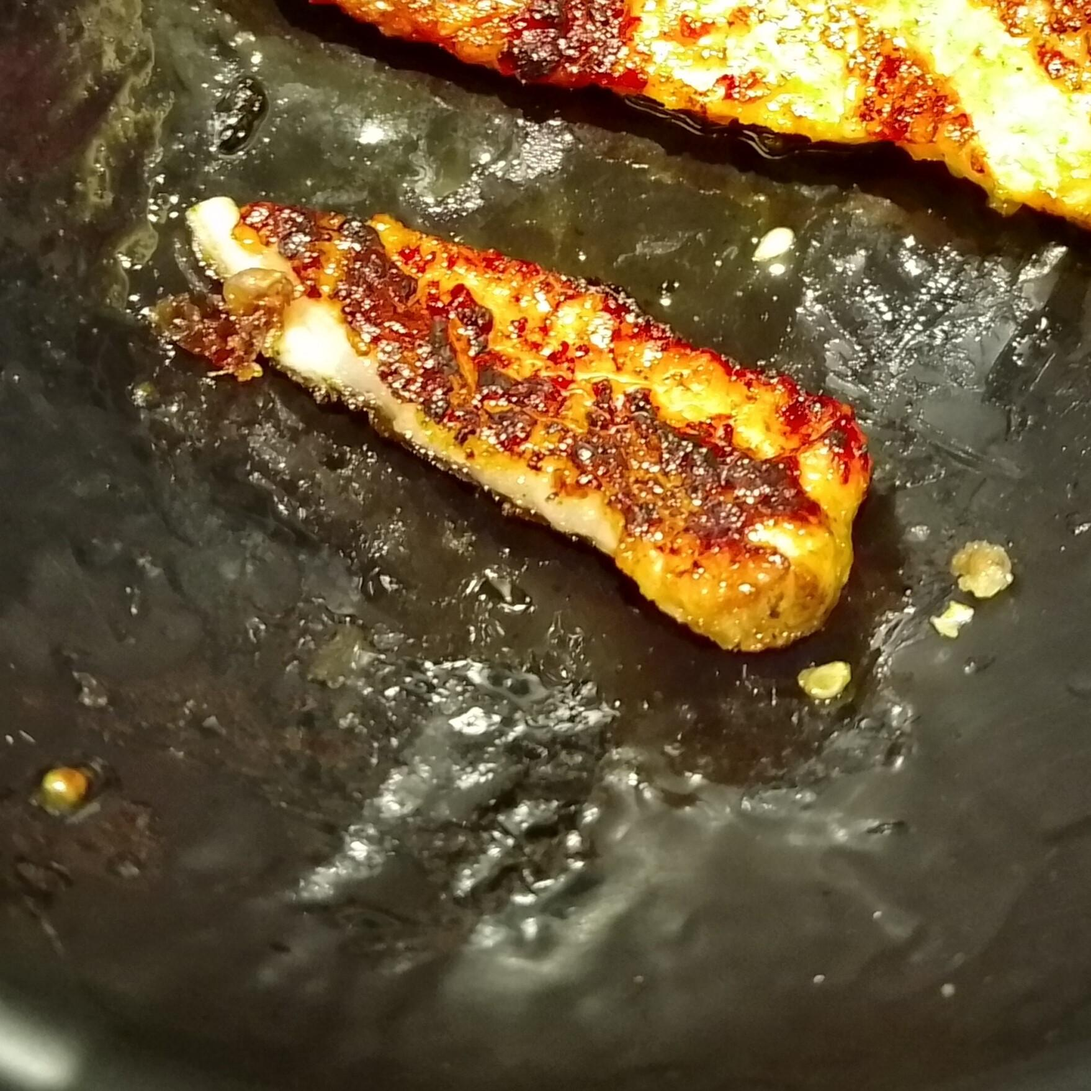Overcooked: (150, 197, 871, 652)
